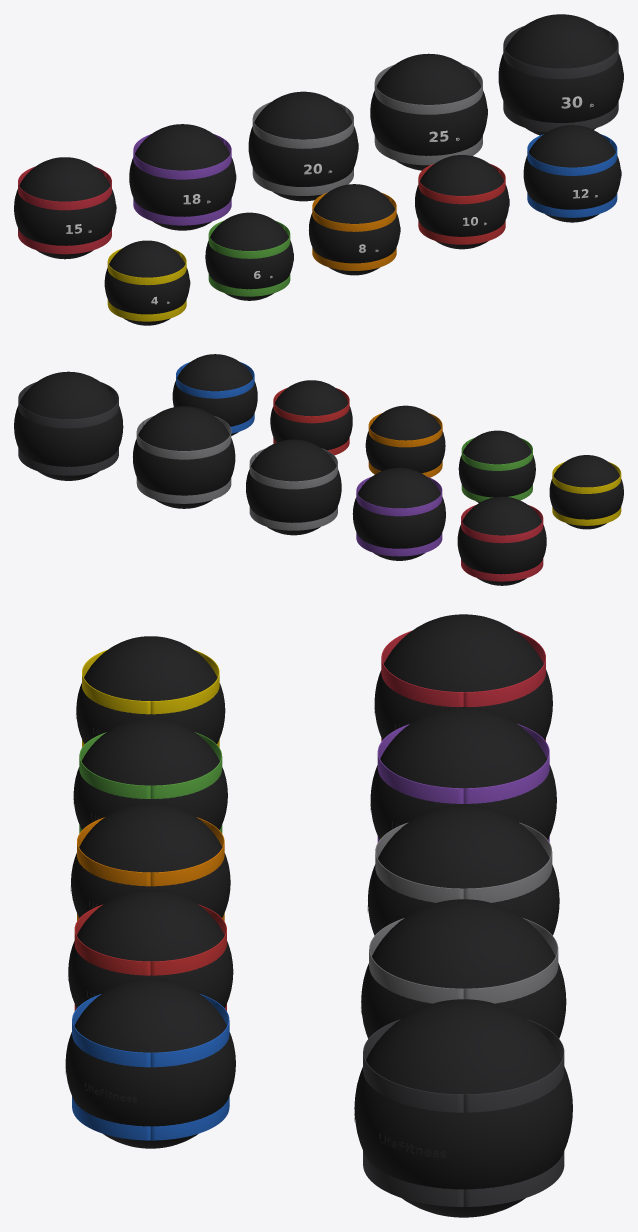
File: life-fitness-medicine-balls_v001.glb
The picture shows the model from 3 angles, top to bottom: view 1: azimuth 30°, elevation 25°; view 2: azimuth 150°, elevation 25°; view 3: azimuth 270°, elevation 25°; orthographic projection. The views are drawn at different scales.
Parts seen in each view (by area): view 1: life-fitness-medicine-balls_rubber, life-fitness-medicine-balls_stripe30, life-fitness-medicine-balls_stripe25, life-fitness-medicine-balls_stripe20, life-fitness-medicine-balls_stripe18, life-fitness-medicine-balls_stripe15, life-fitness-medicine-balls_stripe12, life-fitness-medicine-balls_stripe10, life-fitness-medicine-balls_stripe8, life-fitness-medicine-balls_stripe6, life-fitness-medicine-balls_stripe4, life-fitness-medicine-balls_white; view 2: life-fitness-medicine-balls_rubber, life-fitness-medicine-balls_stripe30, life-fitness-medicine-balls_stripe25, life-fitness-medicine-balls_stripe20, life-fitness-medicine-balls_stripe18, life-fitness-medicine-balls_stripe15, life-fitness-medicine-balls_stripe4, life-fitness-medicine-balls_stripe6, life-fitness-medicine-balls_stripe12, life-fitness-medicine-balls_stripe8, life-fitness-medicine-balls_stripe10; view 3: life-fitness-medicine-balls_rubber, life-fitness-medicine-balls_stripe30, life-fitness-medicine-balls_stripe12, life-fitness-medicine-balls_stripe25, life-fitness-medicine-balls_stripe18, life-fitness-medicine-balls_stripe20, life-fitness-medicine-balls_stripe15, life-fitness-medicine-balls_stripe10, life-fitness-medicine-balls_stripe8, life-fitness-medicine-balls_stripe6, life-fitness-medicine-balls_stripe4, life-fitness-medicine-balls_script.
Part boxes in pixels (left/top/right/bottom): life-fitness-medicine-balls_rubber: left=14, top=14, right=623, bottom=325; life-fitness-medicine-balls_stripe30: left=503, top=26, right=618, bottom=132; life-fitness-medicine-balls_stripe25: left=374, top=64, right=482, bottom=165; life-fitness-medicine-balls_stripe20: left=252, top=102, right=353, bottom=195; life-fitness-medicine-balls_stripe18: left=133, top=134, right=231, bottom=225; life-fitness-medicine-balls_stripe15: left=18, top=166, right=111, bottom=254; life-fitness-medicine-balls_stripe12: left=527, top=134, right=617, bottom=217; life-fitness-medicine-balls_stripe10: left=418, top=163, right=505, bottom=244; life-fitness-medicine-balls_stripe8: left=312, top=192, right=396, bottom=270; life-fitness-medicine-balls_stripe6: left=208, top=220, right=290, bottom=296; life-fitness-medicine-balls_stripe4: left=107, top=248, right=186, bottom=321; life-fitness-medicine-balls_white: left=66, top=96, right=597, bottom=304; life-fitness-medicine-balls_rubber: left=14, top=354, right=623, bottom=585; life-fitness-medicine-balls_stripe30: left=18, top=382, right=118, bottom=475; life-fitness-medicine-balls_stripe25: left=136, top=416, right=231, bottom=503; life-fitness-medicine-balls_stripe20: left=249, top=448, right=337, bottom=530; life-fitness-medicine-balls_stripe18: left=356, top=476, right=442, bottom=556; life-fitness-medicine-balls_stripe15: left=461, top=505, right=543, bottom=581; life-fitness-medicine-balls_stripe4: left=552, top=462, right=621, bottom=525; life-fitness-medicine-balls_stripe6: left=461, top=437, right=532, bottom=502; life-fitness-medicine-balls_stripe12: left=176, top=362, right=254, bottom=433; life-fitness-medicine-balls_stripe8: left=368, top=413, right=442, bottom=477; life-fitness-medicine-balls_stripe10: left=273, top=388, right=349, bottom=455; life-fitness-medicine-balls_rubber: left=65, top=614, right=572, bottom=1217; life-fitness-medicine-balls_stripe30: left=363, top=1019, right=564, bottom=1206; life-fitness-medicine-balls_stripe12: left=72, top=994, right=229, bottom=1140; life-fitness-medicine-balls_stripe25: left=369, top=918, right=558, bottom=1003; life-fitness-medicine-balls_stripe18: left=377, top=724, right=549, bottom=842; life-fitness-medicine-balls_stripe20: left=375, top=822, right=552, bottom=902; life-fitness-medicine-balls_stripe15: left=381, top=630, right=545, bottom=741; life-fitness-medicine-balls_stripe10: left=74, top=904, right=226, bottom=1010; life-fitness-medicine-balls_stripe8: left=77, top=817, right=224, bottom=920; life-fitness-medicine-balls_stripe6: left=79, top=732, right=222, bottom=833; life-fitness-medicine-balls_stripe4: left=82, top=649, right=219, bottom=747; life-fitness-medicine-balls_script: left=84, top=724, right=446, bottom=1158.
Size of the model in its own units: 1.53 by 0.2794 by 0.6494.
